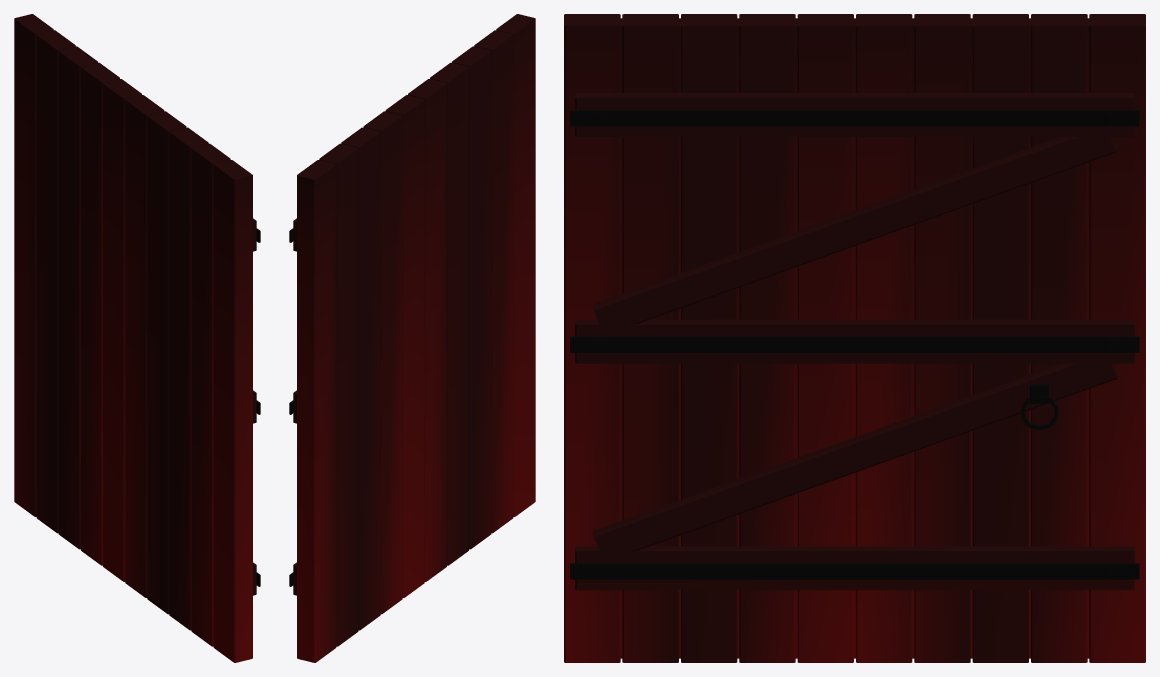
The model's file is SilverbrookGatehouse_GateL.fbx.
3 renders of one model, left to right at view 1: azimuth 30°, elevation 25°; view 2: azimuth 150°, elevation 25°; view 3: azimuth 270°, elevation 25°, orthographic. The views are drawn at different scales.
Visible parts, largest first — view 1: SM_SBGatehouse_GateL_Part; view 2: SM_SBGatehouse_GateL_Part; view 3: SM_SBGatehouse_GateL_Part.
Part boxes in pixels (x1,y1,x2,y2): SM_SBGatehouse_GateL_Part: [14, 14, 260, 662]; SM_SBGatehouse_GateL_Part: [289, 14, 535, 662]; SM_SBGatehouse_GateL_Part: [564, 14, 1145, 662].
Size of the model in its own units: 21.2 by 295 by 244.
